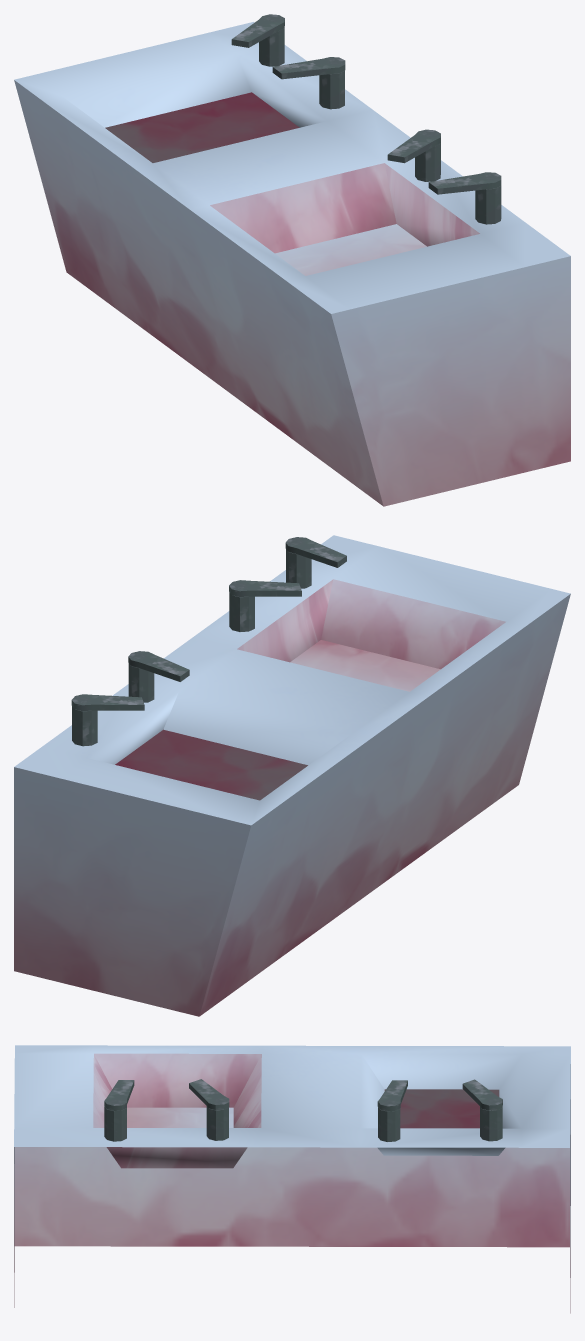
The model's file is Sink.fbx.
The picture shows the model from 3 angles, top to bottom: view 1: azimuth 30°, elevation 25°; view 2: azimuth 150°, elevation 25°; view 3: azimuth 270°, elevation 25°; orthographic projection. The views are drawn at different scales.
Visible parts, largest first — view 1: combined_sink; view 2: combined_sink; view 3: combined_sink.
Part boxes in pixels (left/top/right/bottom): combined_sink: left=14, top=14, right=570, bottom=506; combined_sink: left=14, top=535, right=570, bottom=1016; combined_sink: left=14, top=1045, right=570, bottom=1313.
Size of the model in its own units: 70.3 by 68.59 by 161.
